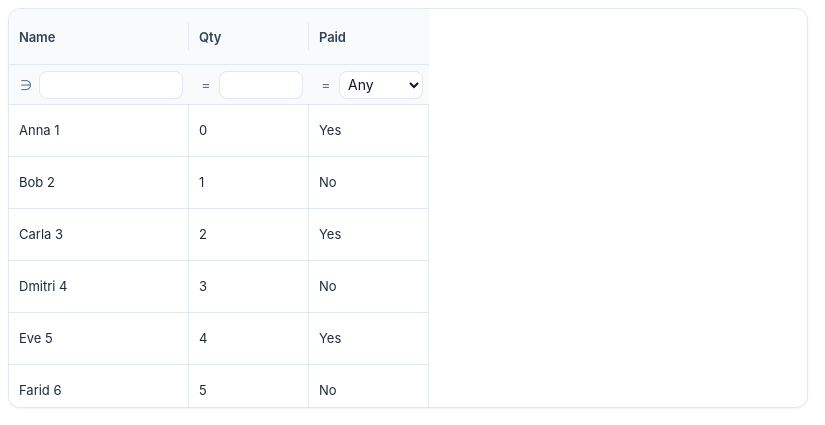
Test case: header filter row (real browser) › changes the operator from the menu and clears the filter
Note: Rows rendered unfiltered (the render window, not all 12).
Click the field named "Filter value for Qty": (261, 84) left=220, top=72, right=302, bottom=98
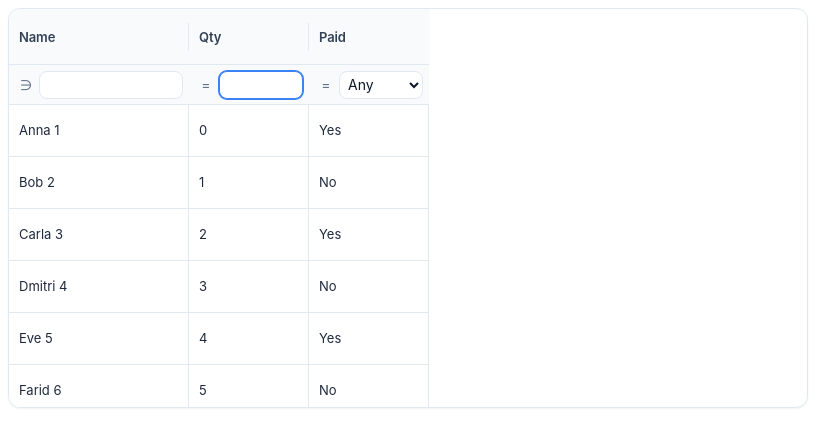
Type keys "7"
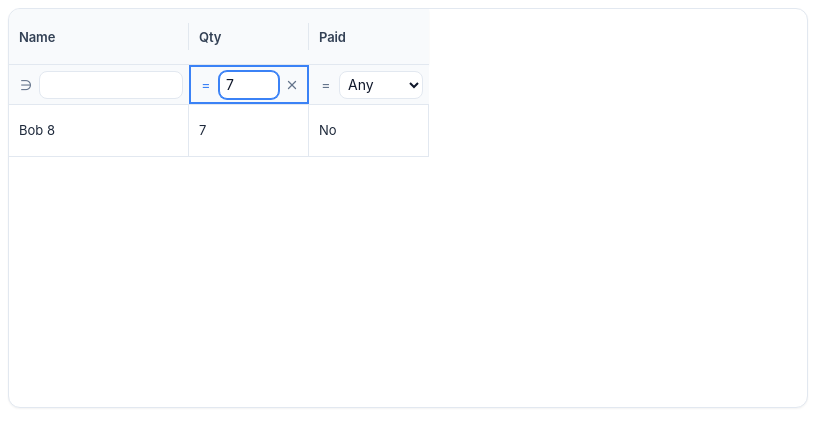
Click the 2nd button with class "ogx__header-filter-operator": (206, 84) left=195, top=72, right=217, bottom=96
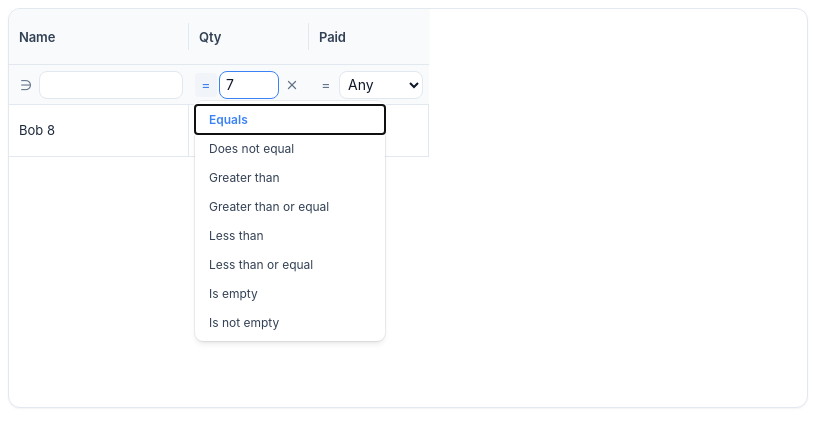
expect the menu with class "ogx__header-filter-menu" is shown: met, box left=195, top=100, right=385, bottom=340
Click the menu item "Greater than or equal": (290, 206) left=195, top=192, right=385, bottom=220
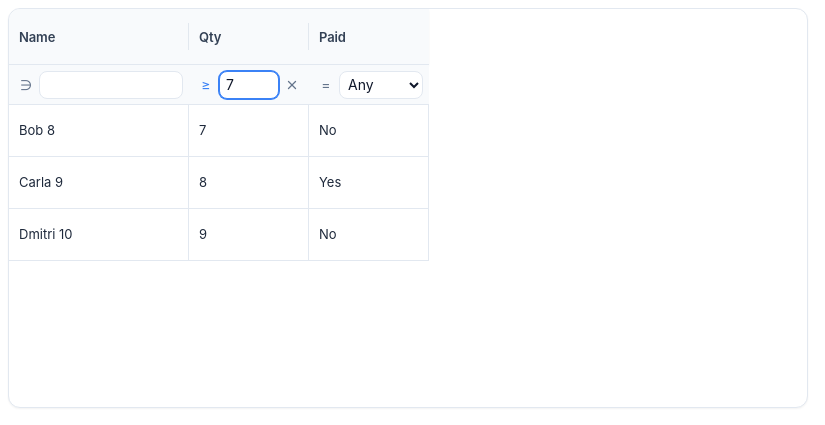
expect the menu with class "ogx__header-filter-menu" is gone: met
Click the button with class "ogx__header-filter-clear": (292, 84) left=281, top=74, right=303, bottom=96
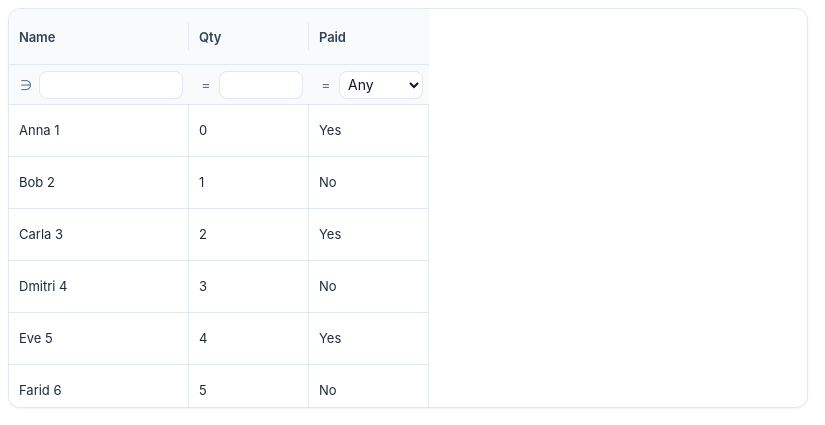
expect the field named "Filter value for Qty" is empty: met, box left=220, top=72, right=302, bottom=98
